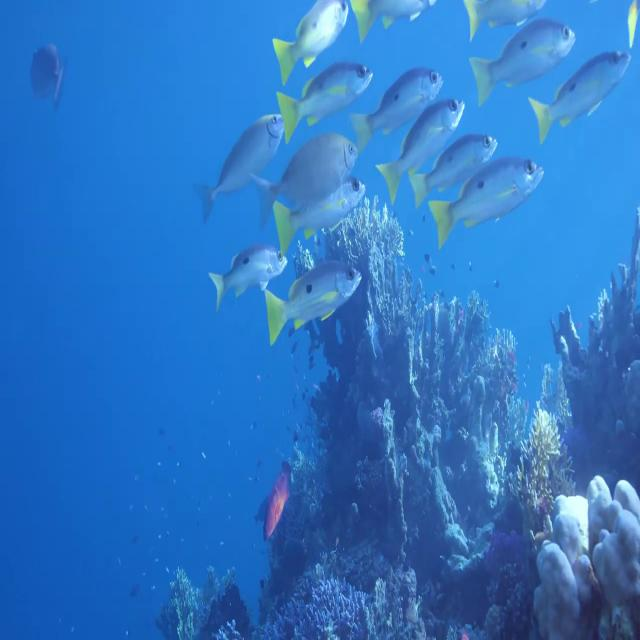fish: (196, 106, 288, 226), (427, 154, 543, 246), (378, 88, 469, 201), (251, 128, 363, 219), (532, 48, 629, 145), (473, 23, 577, 104), (264, 259, 360, 345), (350, 64, 444, 149), (411, 128, 503, 209), (282, 57, 366, 138), (273, 0, 349, 83), (212, 237, 292, 305)
